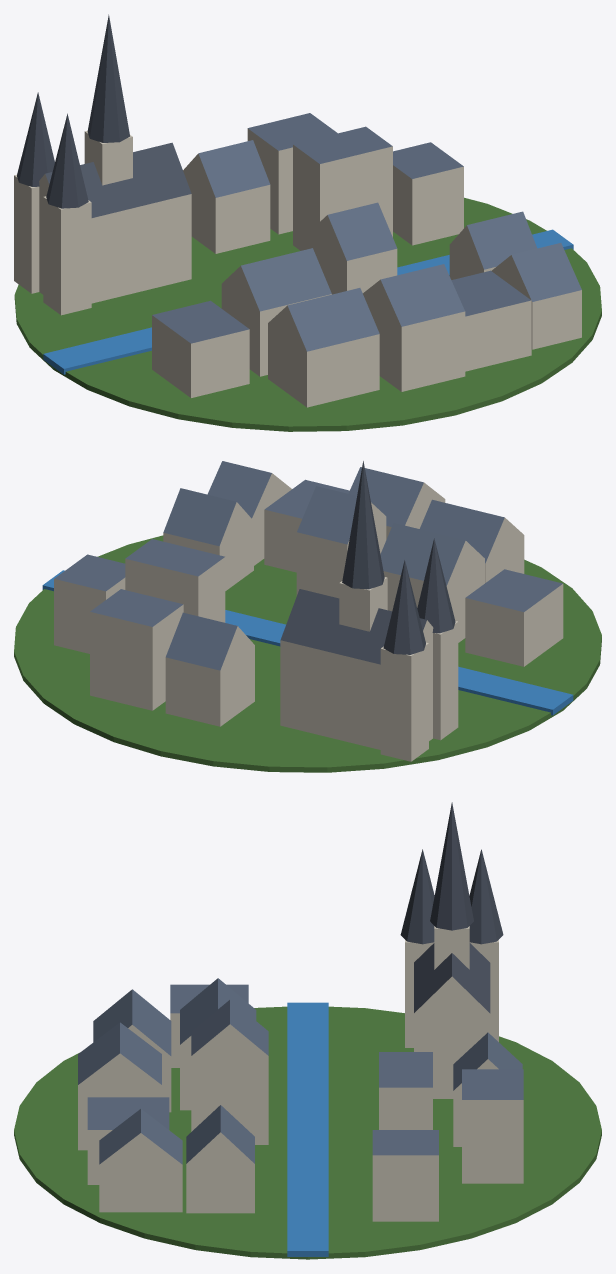
The model's file is cork.glb.
3 views of the same model, one above another, from view 1: azimuth 30°, elevation 25°; view 2: azimuth 150°, elevation 25°; view 3: azimuth 270°, elevation 25° (orthographic).
Bounding box in the file's own units: 2 × 1.02 × 2.
